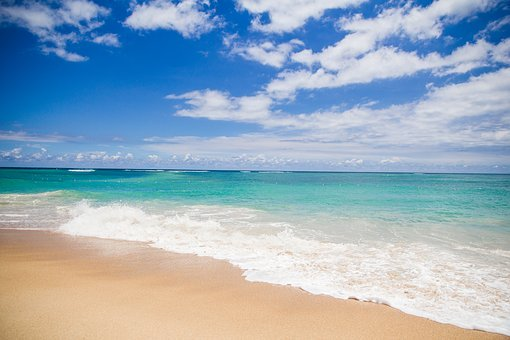sea: (6, 173, 510, 338)
sky: (3, 3, 510, 171)
